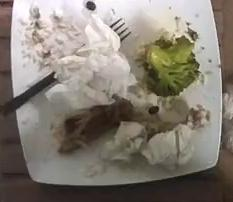broccoli: (142, 35, 197, 95)
